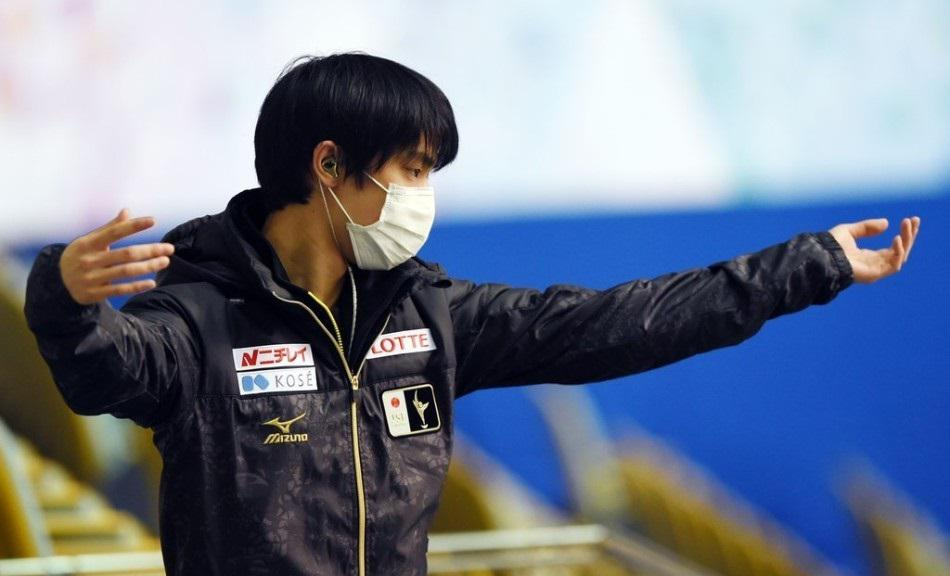OK: (320, 142, 446, 268)
